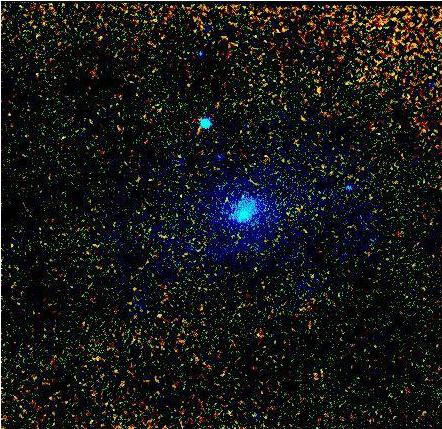star: (299, 82, 329, 112)
